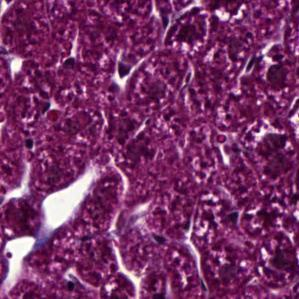inflammation: (162, 4, 211, 53), (244, 119, 287, 162), (262, 41, 285, 65)
